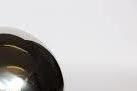ironball: (0, 18, 69, 90)
